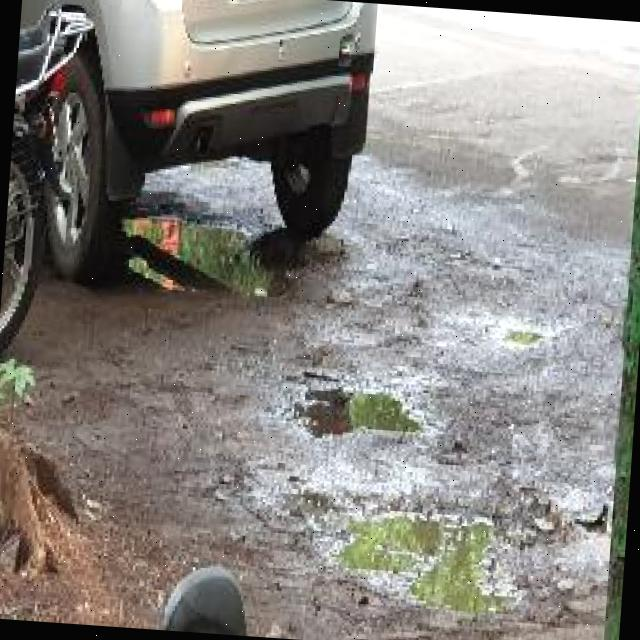stagnation: (318, 484, 534, 634), (276, 358, 446, 454)
